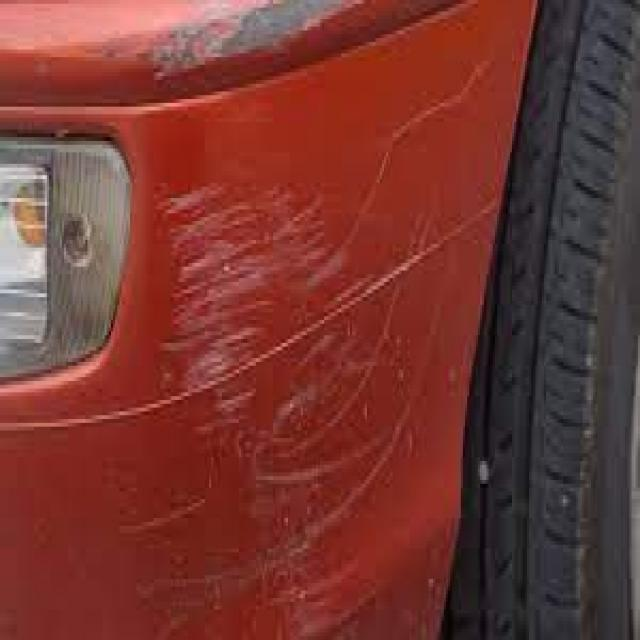minor: (110, 162, 470, 574)
